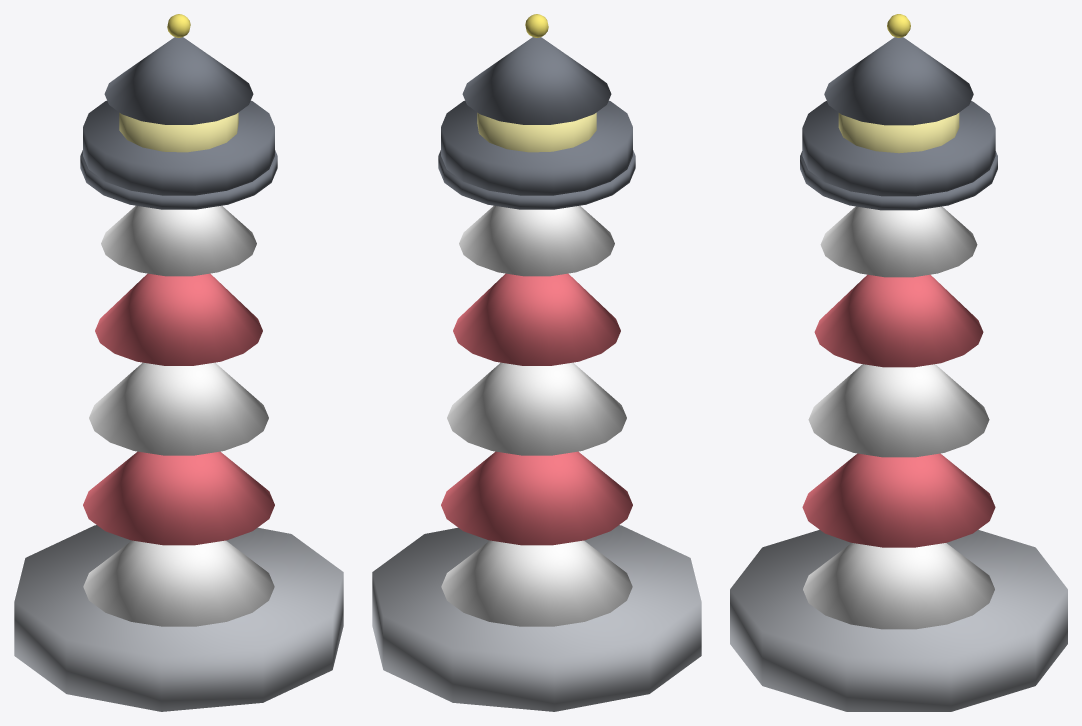
The model's file is lighthouse.fbx.
3 views of the same model, side by side, from view 1: azimuth 30°, elevation 25°; view 2: azimuth 150°, elevation 25°; view 3: azimuth 270°, elevation 25° (orthographic).
Visible parts, largest first — view 1: RockBase; view 2: RockBase; view 3: RockBase.
Boxes of the visible parts, x1,y1,x2,y2 form: RockBase: (14, 14, 343, 711); RockBase: (372, 14, 701, 711); RockBase: (730, 14, 1067, 711).
Bounding box in the file's own units: 2.66 × 5.75 × 2.8.
